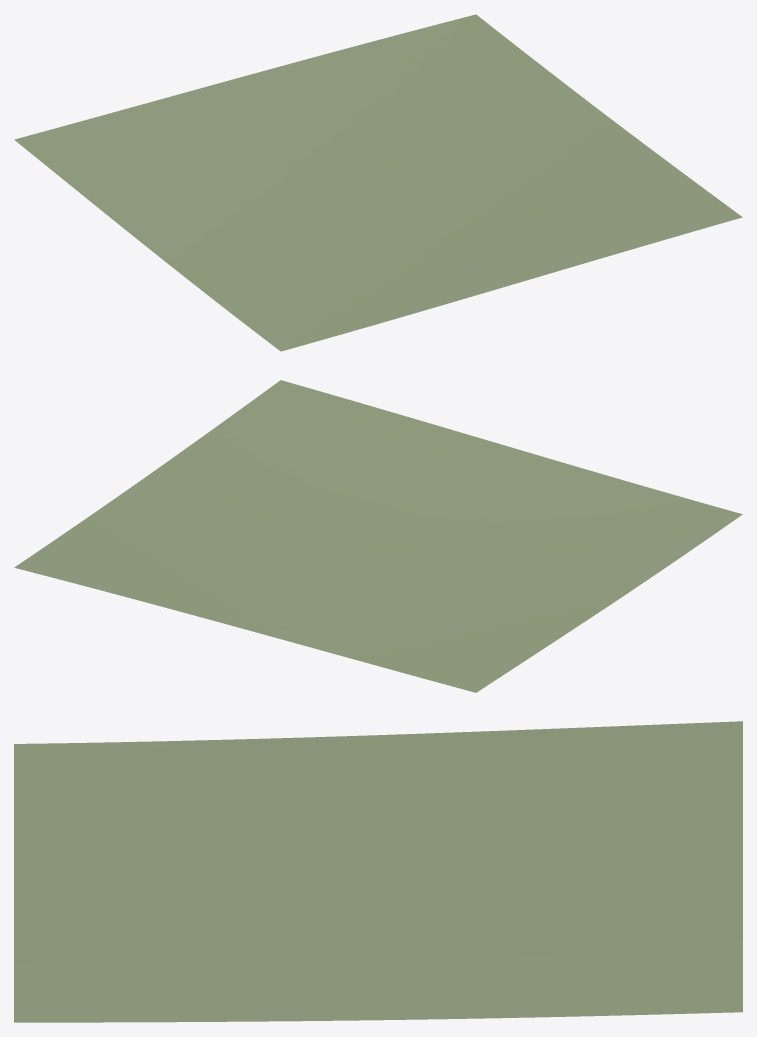
File: expanse-7-4.glb
The picture shows the model from 3 angles, top to bottom: view 1: azimuth 30°, elevation 25°; view 2: azimuth 150°, elevation 25°; view 3: azimuth 270°, elevation 25°; orthographic projection. The views are drawn at different scales.
Parts seen in each view (by area): view 1: expanse-7-4; view 2: expanse-7-4; view 3: expanse-7-4.
Boxes of the visible parts, <box> form: expanse-7-4: <box>14,14,742,351</box>; expanse-7-4: <box>14,380,742,692</box>; expanse-7-4: <box>14,721,742,1022</box>.
Bounding box in the file's own units: 256 × 15.44 × 256.
